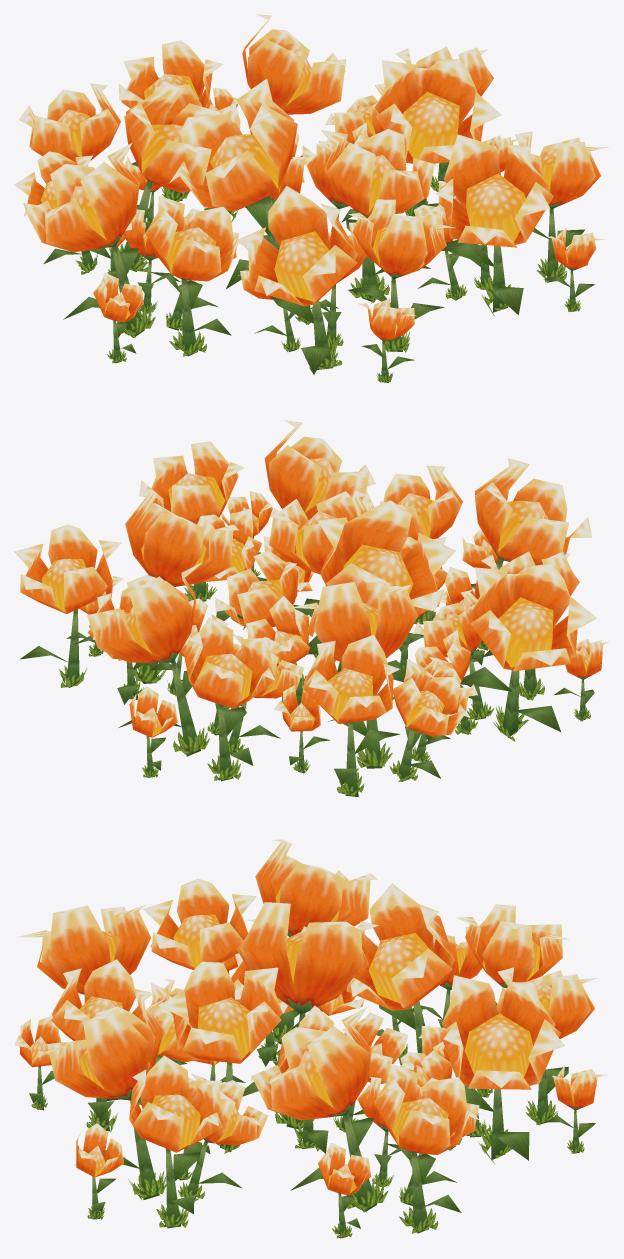
File: obj_macoprfl03-01.glb
3 views of the same model, one above another, from view 1: azimuth 30°, elevation 25°; view 2: azimuth 150°, elevation 25°; view 3: azimuth 270°, elevation 25° (orthographic). The views are drawn at different scales.
Parts seen in each view (by area): view 1: part_0; view 2: part_0; view 3: part_0.
Part boxes in pixels (left/top/right/bottom): part_0: left=14, top=14, right=609, bottom=382; part_0: left=14, top=420, right=609, bottom=796; part_0: left=14, top=839, right=608, bottom=1238.
Bounding box in the file's own units: 1.92 × 0.7605 × 1.84.
Materials: 2 (2 with a texture image).
